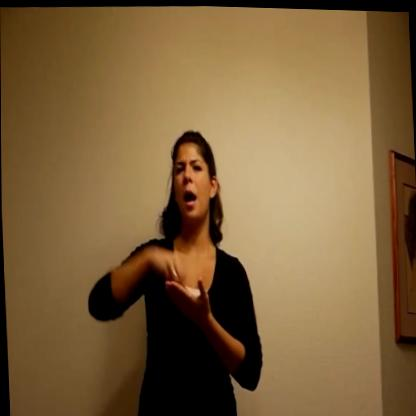Expensive: (142, 232, 220, 331)
